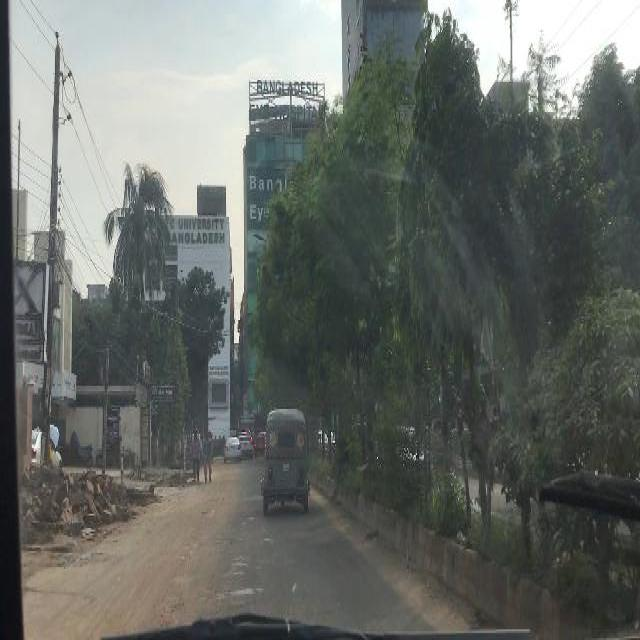car: (222, 434, 241, 457), (238, 434, 253, 457), (255, 434, 264, 450)
motorcycle: (261, 405, 308, 507)
